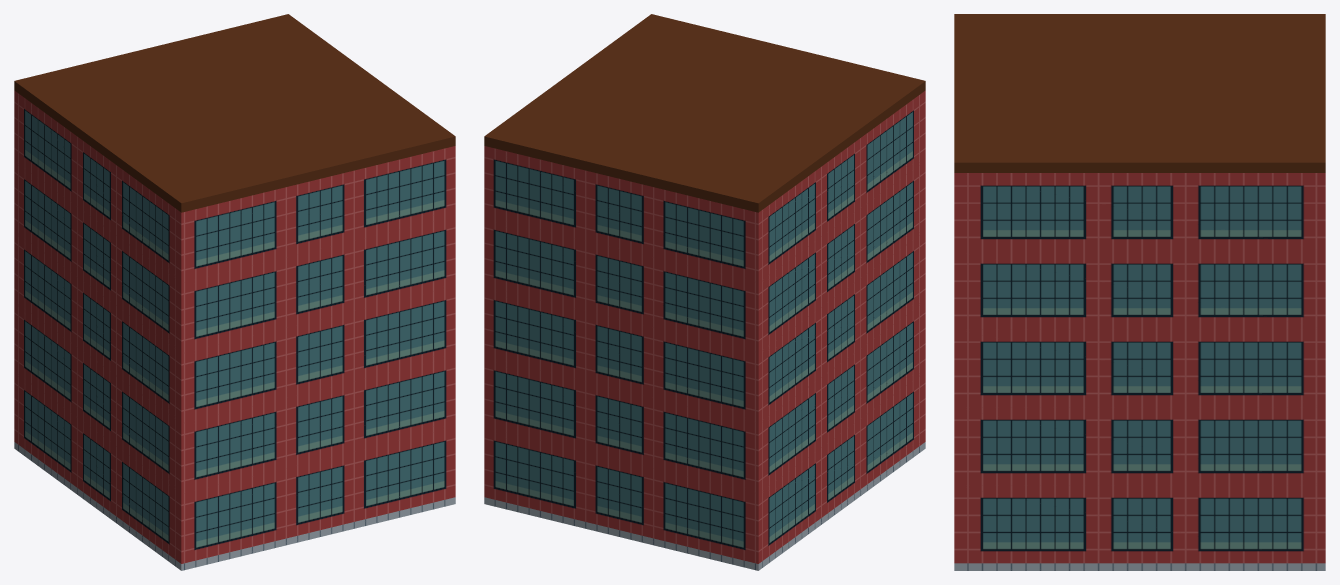
Rendered from Red Building.fbx.
The picture shows the model from 3 angles, left to right: view 1: azimuth 30°, elevation 25°; view 2: azimuth 150°, elevation 25°; view 3: azimuth 270°, elevation 25°; orthographic projection. The views are drawn at different scales.
Parts seen in each view (by area): view 1: Cube; view 2: Cube; view 3: Cube.
Part boxes in pixels (left/top/right/bottom): Cube: left=14, top=14, right=455, bottom=570; Cube: left=484, top=14, right=925, bottom=570; Cube: left=954, top=14, right=1325, bottom=570.
Size of the model in its own units: 1352 by 1731 by 1428.
Materials: 1 (1 with a texture image).
